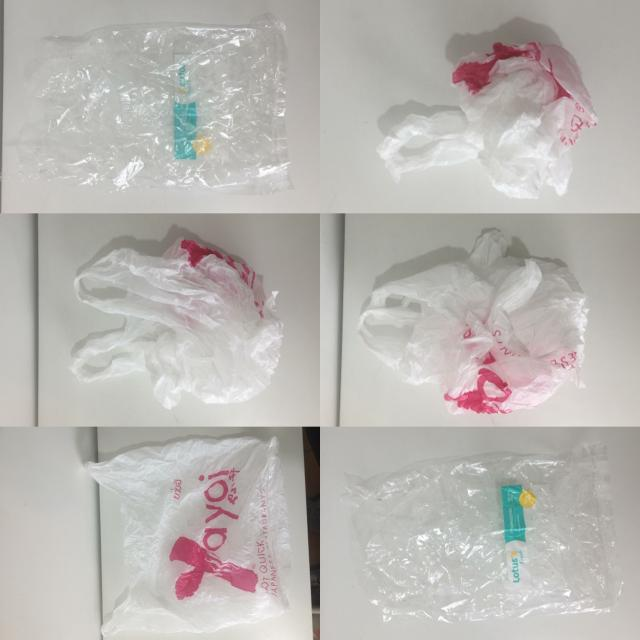Single-layer Plastic: (16, 15, 293, 194), (345, 445, 619, 621), (358, 229, 588, 414), (88, 436, 290, 635), (70, 238, 283, 408), (377, 42, 597, 198)
